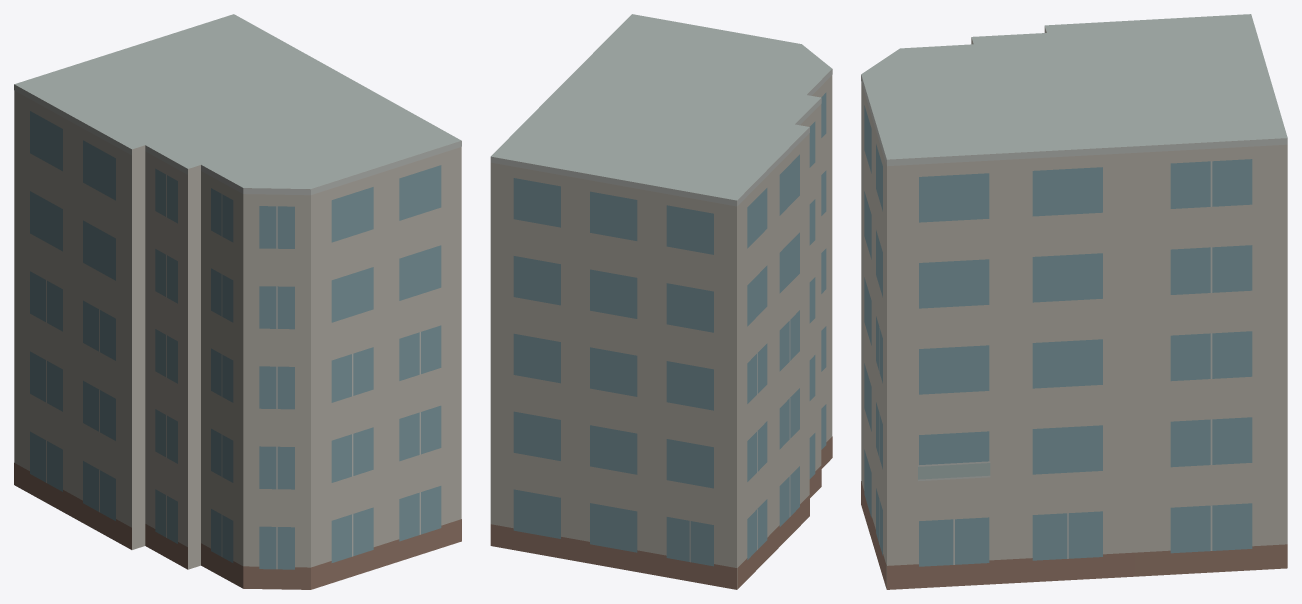
Rendered from survey-upis-32748049.glb.
3 renders of one model, left to right at view 1: azimuth 30°, elevation 25°; view 2: azimuth 150°, elevation 25°; view 3: azimuth 270°, elevation 25°, orthographic. The views are drawn at different scales.
Parts seen in each view (by area): view 1: survey-upis-32748049.tmp; view 2: survey-upis-32748049.tmp; view 3: survey-upis-32748049.tmp.
Boxes of the visible parts, x1,y1,x2,y2 form: survey-upis-32748049.tmp: [14, 14, 461, 589]; survey-upis-32748049.tmp: [490, 14, 832, 589]; survey-upis-32748049.tmp: [861, 14, 1287, 589].
Size of the model in its own units: 11.59 by 15.95 by 14.34.
